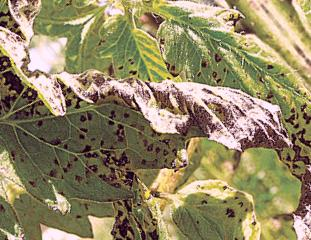Tomato Septoria leaf spot: (0, 0, 292, 240), (131, 0, 311, 186), (155, 137, 275, 240)
